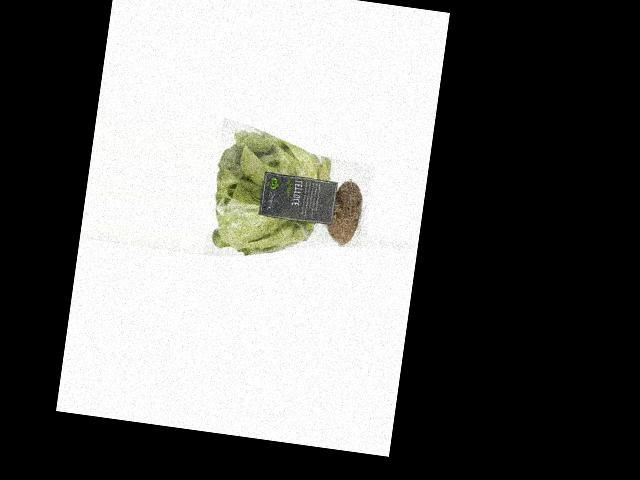lettuce: (196, 207, 307, 324)
